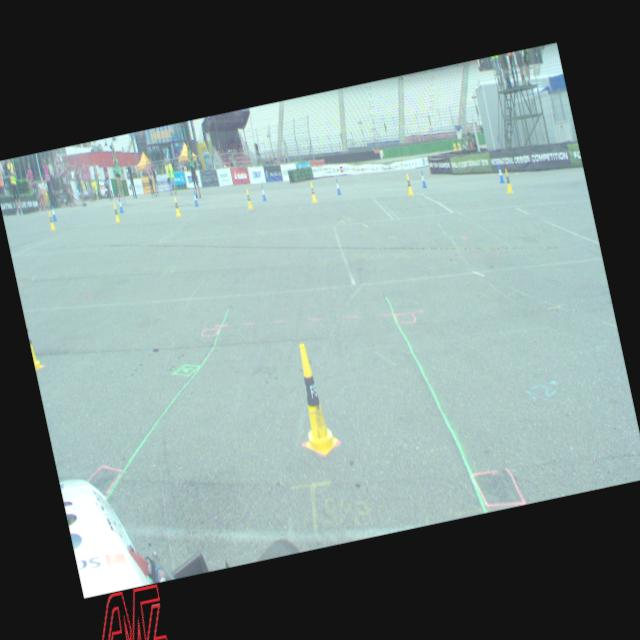blue_cone: (496, 163, 504, 183), (419, 170, 427, 188), (116, 196, 124, 212), (334, 178, 341, 195), (192, 190, 198, 207), (50, 204, 56, 221), (260, 184, 266, 200)
yellow_cone: (284, 341, 340, 457), (24, 310, 44, 370), (502, 168, 513, 194), (404, 173, 414, 195), (172, 196, 182, 217), (308, 180, 317, 202), (244, 188, 253, 209), (47, 210, 55, 230), (112, 202, 120, 222)
